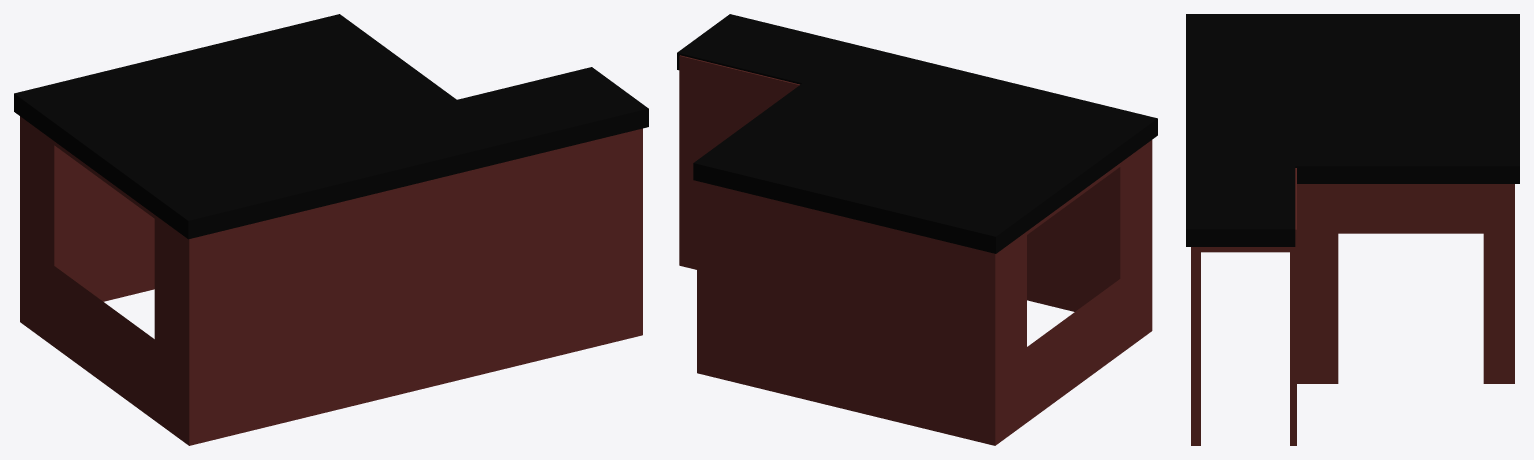
File: Bed02.fbx
3 views of the same model, side by side, from view 1: azimuth 30°, elevation 25°; view 2: azimuth 150°, elevation 25°; view 3: azimuth 270°, elevation 25° (orthographic). The views are drawn at different scales.
Visible parts, largest first — view 1: Bed02; view 2: Bed02; view 3: Bed02.
Boxes of the visible parts, left/top/right/bottom form: Bed02: left=14, top=14, right=648, bottom=445; Bed02: left=677, top=14, right=1157, bottom=445; Bed02: left=1186, top=14, right=1519, bottom=445.
Bounding box in the file's own units: 497 × 235 × 325.
